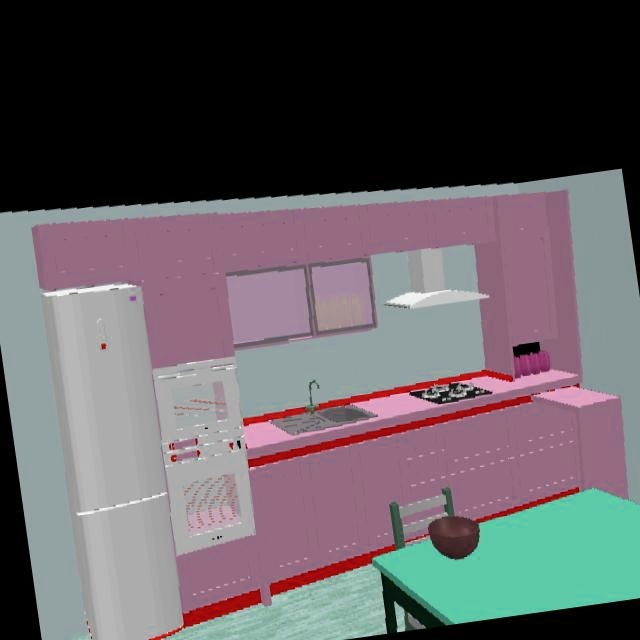cabinet: (177, 387, 630, 612)
chair: (391, 489, 455, 550)
countertop: (243, 370, 630, 499)
fridge: (43, 282, 184, 640)
microwave: (152, 357, 242, 443)
oven: (163, 429, 257, 555)
sink: (272, 405, 377, 437)
stove: (408, 381, 493, 405)
table: (375, 490, 640, 634)
